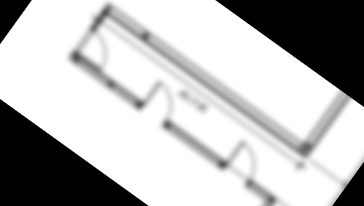door: (134, 77, 185, 128), (220, 138, 269, 188), (71, 27, 120, 75)
